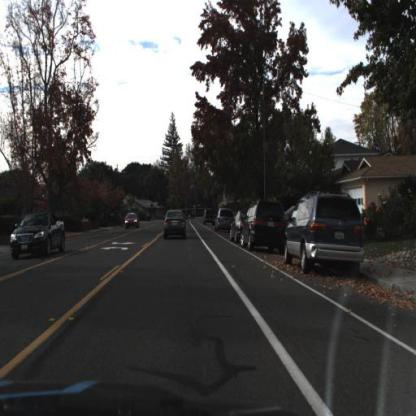car: (286, 188, 367, 280), (10, 211, 66, 263), (247, 200, 283, 252), (166, 211, 191, 242), (230, 213, 250, 250), (117, 215, 136, 236)
